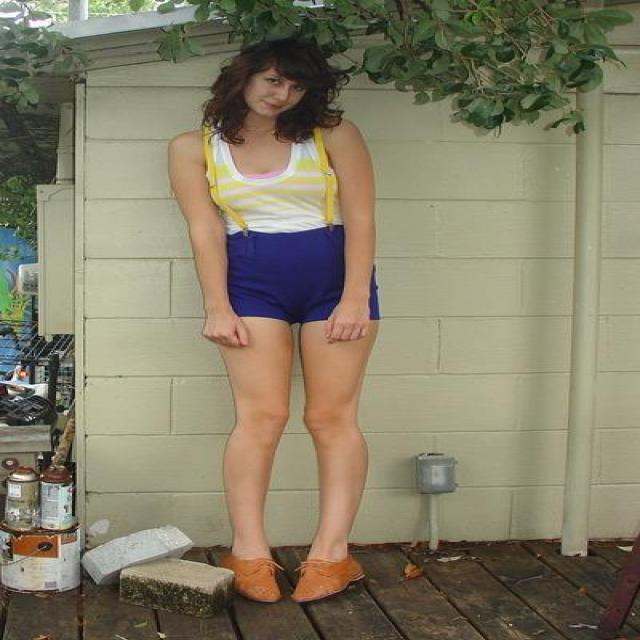shirt: (202, 134, 356, 233)
shoe: (221, 543, 366, 599)
shorts: (225, 224, 378, 325)
